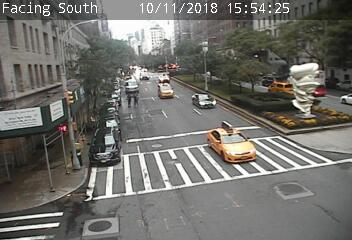car: (208, 128, 256, 163), (268, 82, 294, 96), (192, 93, 216, 108), (157, 83, 173, 98)
